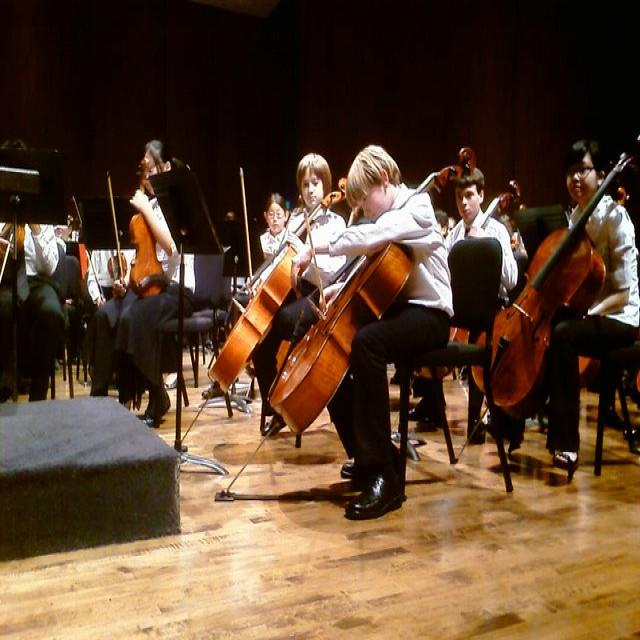cello: (264, 141, 478, 437), (472, 136, 639, 411), (206, 183, 348, 392), (420, 171, 521, 382)
violin: (124, 182, 170, 300)
